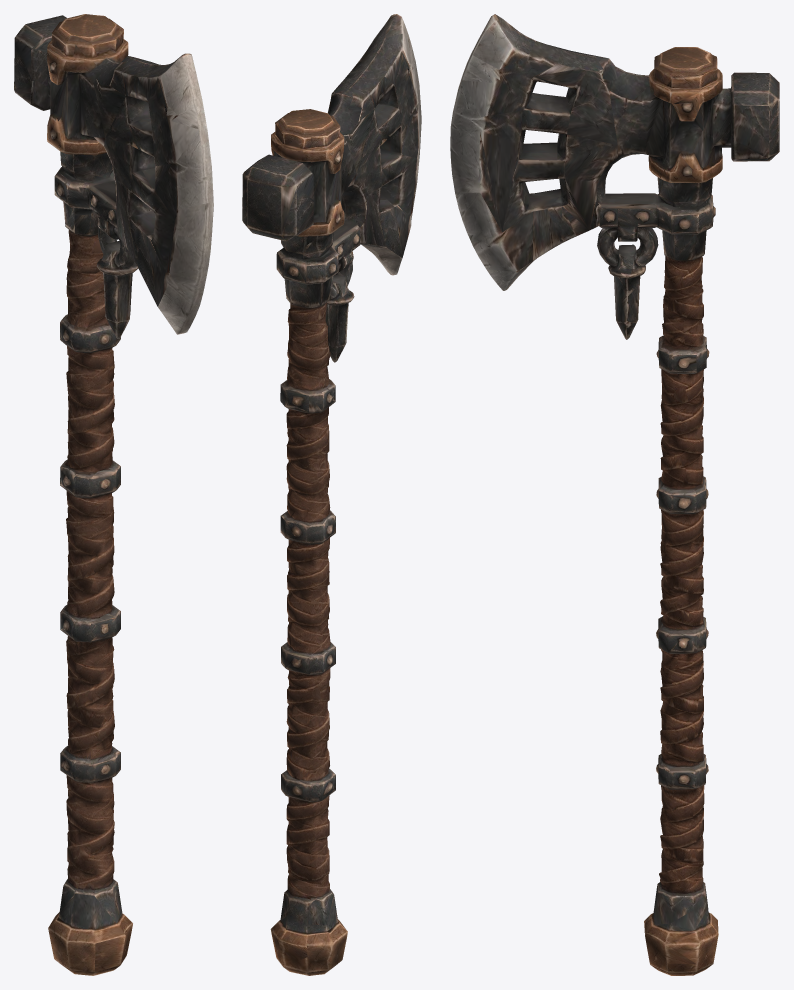
Rendered from runebreaker.glb.
3 views of the same model, side by side, from view 1: azimuth 30°, elevation 25°; view 2: azimuth 150°, elevation 25°; view 3: azimuth 270°, elevation 25° (orthographic). The views are drawn at different scales.
Visible parts, largest first — view 1: Axe; view 2: Axe; view 3: Axe.
Part boxes in pixels (bbox=[...]): Axe: bbox=[14, 14, 213, 975]; Axe: bbox=[242, 14, 421, 975]; Axe: bbox=[450, 14, 779, 975].
Bounding box in the file's own units: 0.1191 × 1.55 × 0.4868.
1 material, 1 textured.
